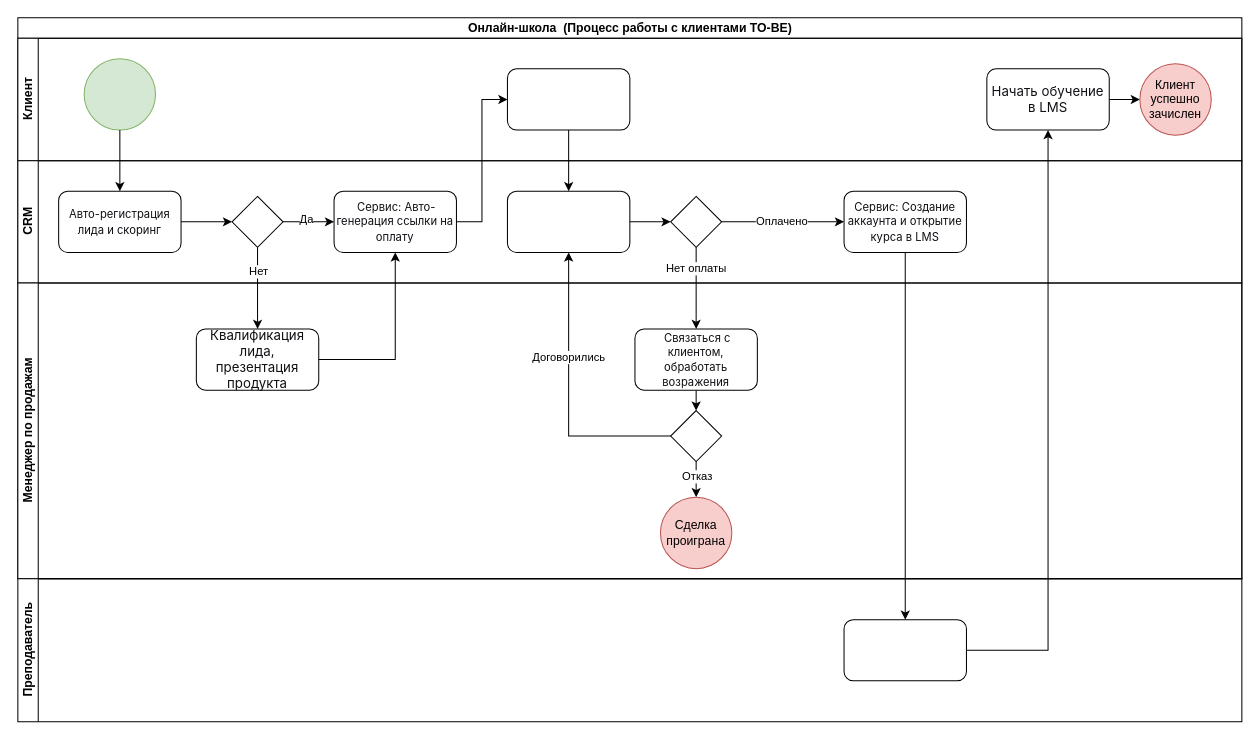
The diagram is 1260 pixels wide and 740 high, and some of its shapes have lost their labels. The shapes that lost their labels are listed below. From the top down, each one's box as (x1, y1, x2, y2) in pixels, then its label:
(83, 58, 156, 130): Оставлена заявка на сайте
(506, 68, 630, 130): Оплатить счет (перейти по ссылке)
(231, 195, 283, 247): Новый клиент
(506, 190, 630, 252): Ожидание оплаты (Таймаут 48ч)
(670, 410, 722, 462): Обработать возражения
(843, 619, 966, 681): Приветственный звонок, добавление в чат группы
